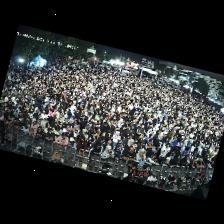person: (87, 142, 103, 165), (158, 144, 169, 164), (77, 136, 87, 156), (152, 135, 162, 153), (166, 126, 177, 142), (136, 150, 146, 167), (55, 133, 68, 146), (135, 140, 146, 155), (162, 152, 174, 165), (122, 147, 134, 160), (102, 146, 114, 159), (146, 151, 157, 164), (88, 131, 96, 148), (45, 128, 55, 141), (124, 140, 135, 151), (51, 118, 62, 129), (112, 131, 120, 146), (145, 134, 153, 149), (97, 131, 106, 144), (170, 154, 180, 165), (126, 125, 135, 137), (53, 126, 62, 138), (172, 139, 181, 151), (36, 127, 45, 139), (80, 117, 88, 130), (123, 134, 132, 145), (104, 138, 113, 149), (179, 155, 188, 166), (113, 146, 120, 160), (65, 127, 73, 139), (23, 122, 30, 135), (169, 135, 176, 148), (13, 119, 22, 129), (118, 140, 124, 155), (31, 119, 39, 130), (28, 127, 36, 138), (182, 147, 190, 158), (41, 118, 48, 130), (180, 143, 187, 155), (68, 138, 76, 148), (57, 112, 64, 123), (100, 122, 108, 131), (94, 127, 100, 139), (73, 125, 79, 137), (195, 158, 202, 168), (9, 118, 15, 129), (188, 160, 196, 168), (124, 174, 133, 181), (83, 129, 88, 141), (44, 123, 49, 133), (202, 161, 209, 168), (37, 116, 42, 124)
